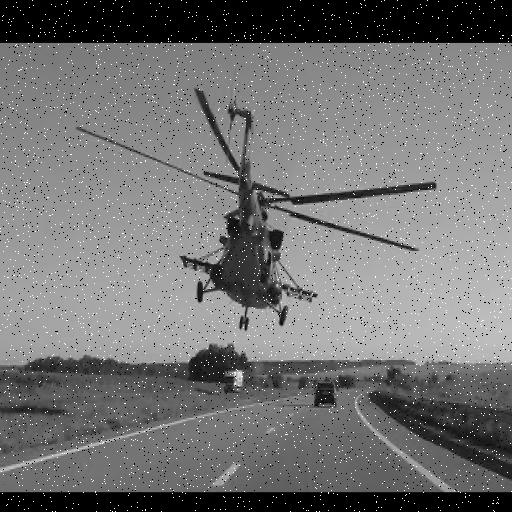helicopter: (77, 75, 438, 335)
